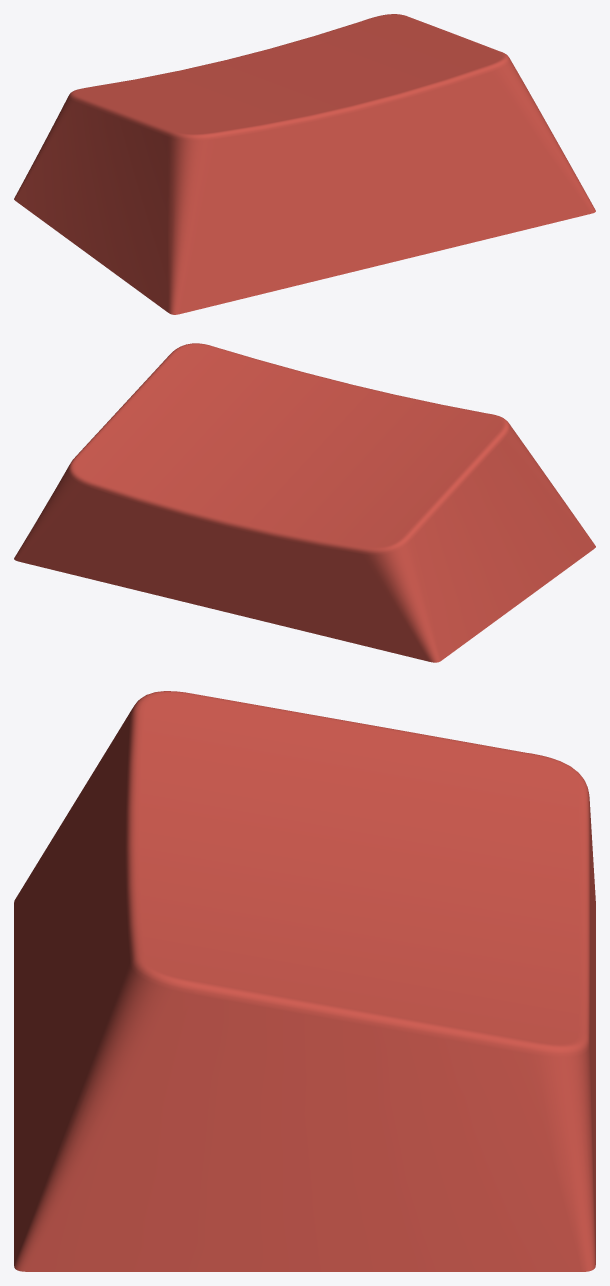
File: CHR-R4-15u.gltf
3 views of the same model, one above another, from view 1: azimuth 30°, elevation 25°; view 2: azimuth 150°, elevation 25°; view 3: azimuth 270°, elevation 25° (orthographic). The views are drawn at different scales.
Parts seen in each view (by area): view 1: object 1; view 2: object 1; view 3: object 1.
Boxes of the visible parts, x1,y1,x2,y2 form: object 1: [14, 14, 595, 314]; object 1: [14, 343, 595, 662]; object 1: [14, 691, 595, 1271].
Bounding box in the file's own units: 2.76 × 0.8653 × 1.81.
